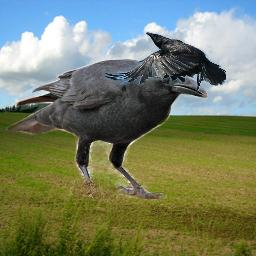Crow: (6, 59, 208, 199), (101, 31, 226, 92)
